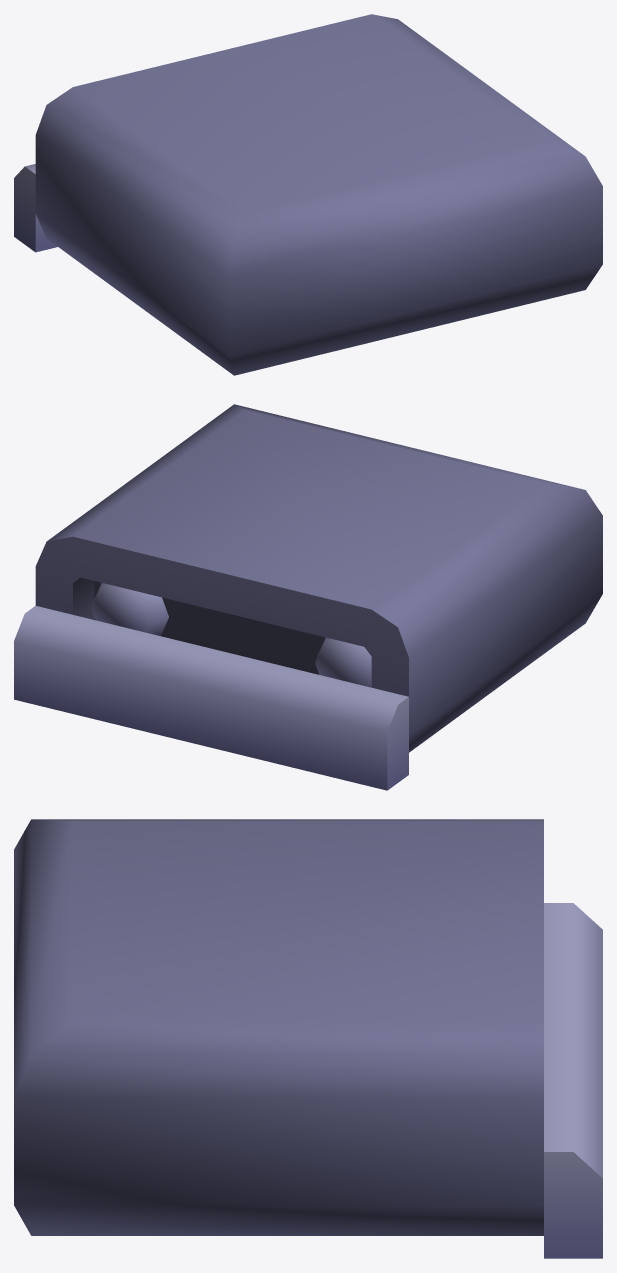
File: kenney-factory-conveyor-sides-junction-t.glb
The picture shows the model from 3 angles, top to bottom: view 1: azimuth 30°, elevation 25°; view 2: azimuth 150°, elevation 25°; view 3: azimuth 270°, elevation 25°; orthographic projection. The views are drawn at different scales.
Parts seen in each view (by area): view 1: conveyor-sides-junction-t; view 2: conveyor-sides-junction-t; view 3: conveyor-sides-junction-t.
Part boxes in pixels (x1,y1,x2,y2): conveyor-sides-junction-t: [14, 14, 602, 375]; conveyor-sides-junction-t: [14, 404, 602, 790]; conveyor-sides-junction-t: [14, 819, 602, 1258].
Size of the model in its own units: 1.5 by 0.6 by 1.5.
Materials: 1 (1 with a texture image).
